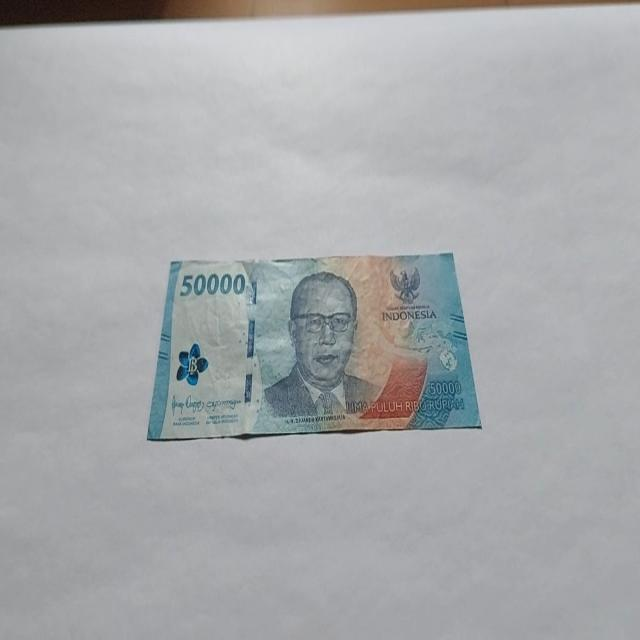lima puluh ribu rupiah: (146, 250, 482, 442), (262, 270, 379, 420)
